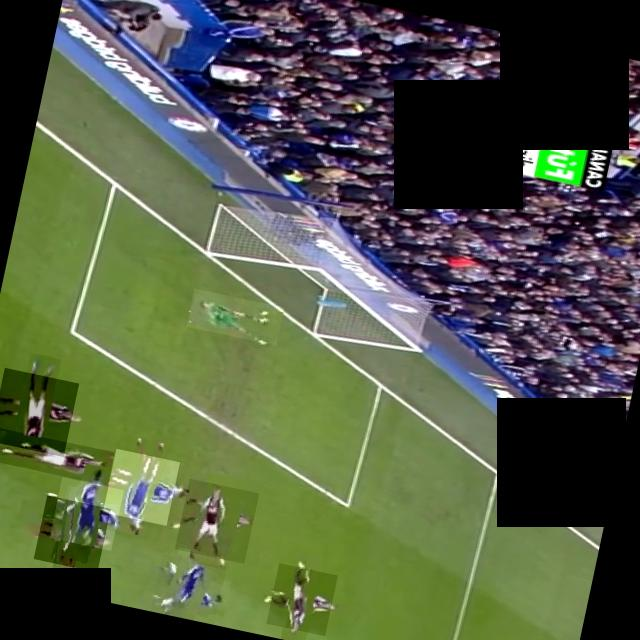goalkeeper: (185, 288, 282, 345)
soccer-player: (174, 478, 258, 563), (0, 367, 77, 456), (0, 427, 113, 485), (32, 495, 109, 572), (102, 448, 178, 525), (48, 476, 122, 550), (148, 553, 224, 624), (264, 562, 336, 636)
